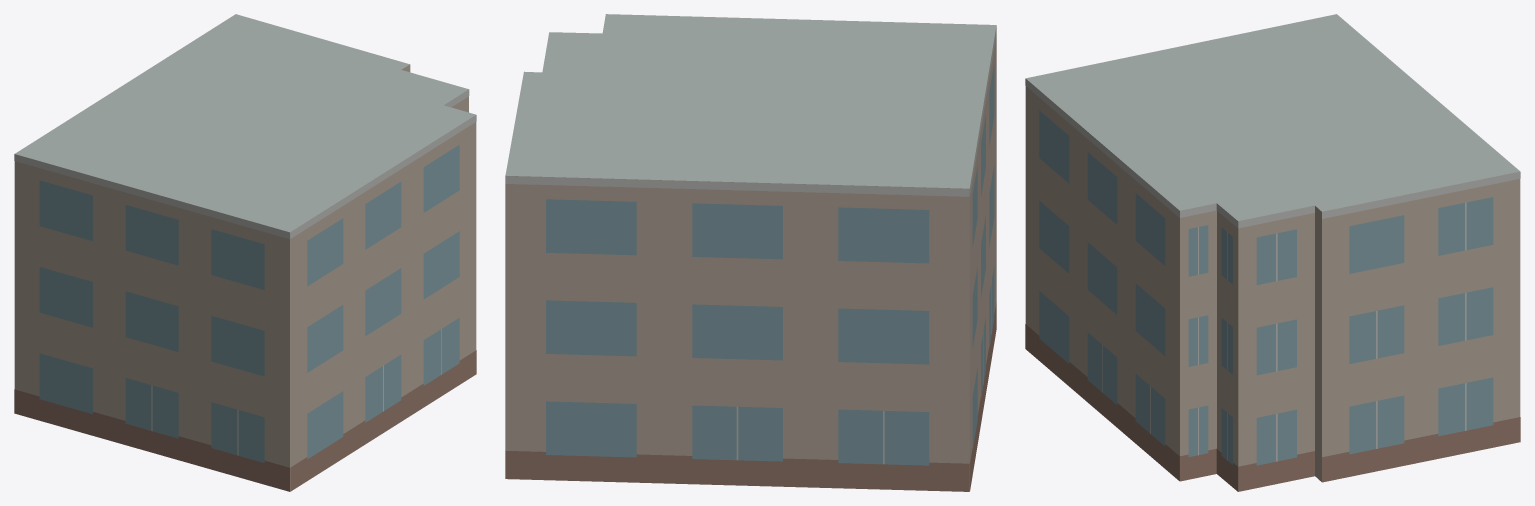
Rendered from survey-upis-32705809.glb.
3 views of the same model, side by side, from view 1: azimuth 30°, elevation 25°; view 2: azimuth 150°, elevation 25°; view 3: azimuth 270°, elevation 25° (orthographic). The views are drawn at different scales.
Parts seen in each view (by area): view 1: survey-upis-32705809.tmp; view 2: survey-upis-32705809.tmp; view 3: survey-upis-32705809.tmp.
Boxes of the visible parts, x1,y1,x2,y2 form: survey-upis-32705809.tmp: [14, 14, 476, 491]; survey-upis-32705809.tmp: [505, 14, 996, 491]; survey-upis-32705809.tmp: [1025, 14, 1520, 491].
Size of the model in its own units: 15.04 by 9.15 by 15.18.
